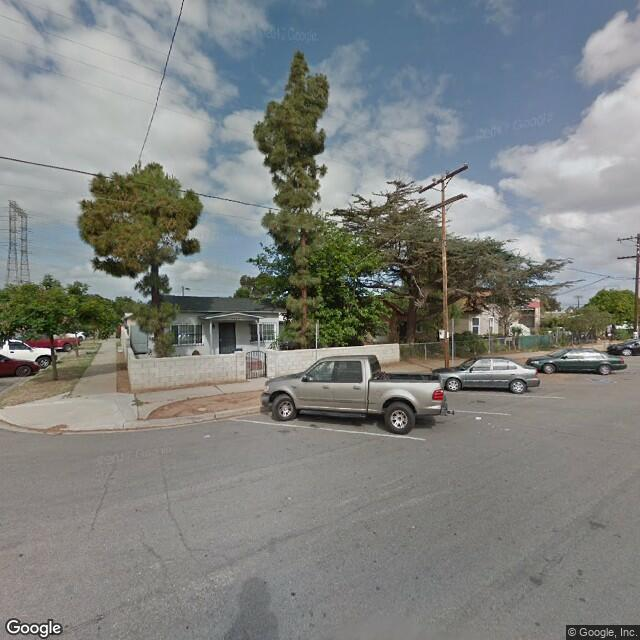litter: (473, 413, 491, 427)
